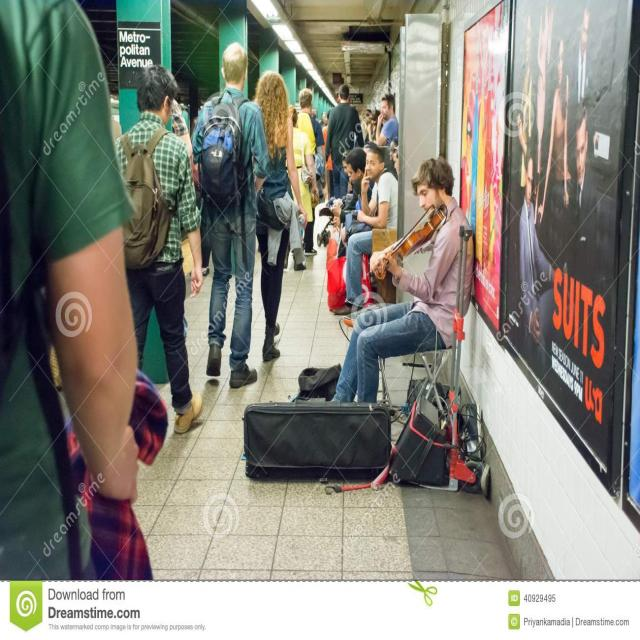body: (0, 1, 140, 578), (325, 156, 478, 455), (512, 0, 604, 375), (113, 63, 204, 437), (191, 38, 271, 392), (253, 69, 308, 363), (332, 147, 400, 316), (283, 104, 320, 271), (290, 86, 326, 257), (328, 147, 378, 248), (325, 83, 365, 199), (374, 93, 399, 170), (172, 93, 195, 156), (360, 107, 378, 140), (389, 136, 403, 171), (342, 149, 356, 175)
